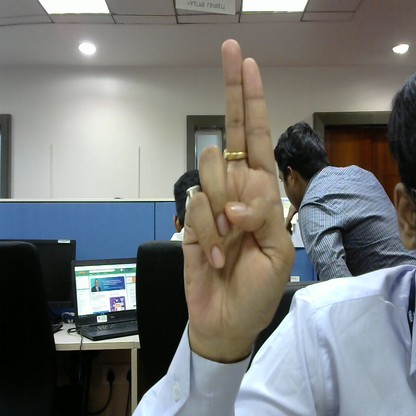u: (177, 37, 292, 343)
